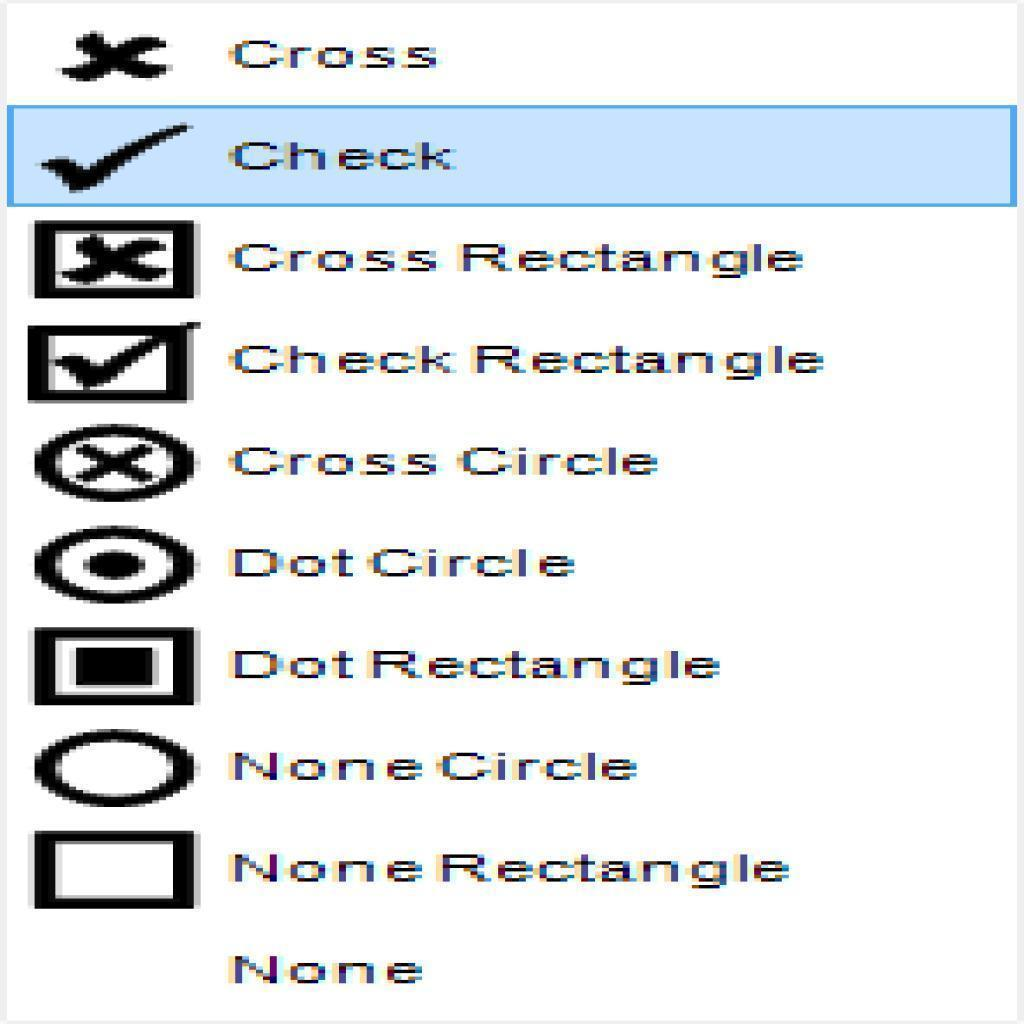checkbox: (35, 830, 205, 910), (34, 626, 202, 704), (34, 219, 199, 298), (28, 325, 195, 403)
radio: (27, 517, 201, 603), (23, 727, 213, 805), (28, 423, 200, 502)
